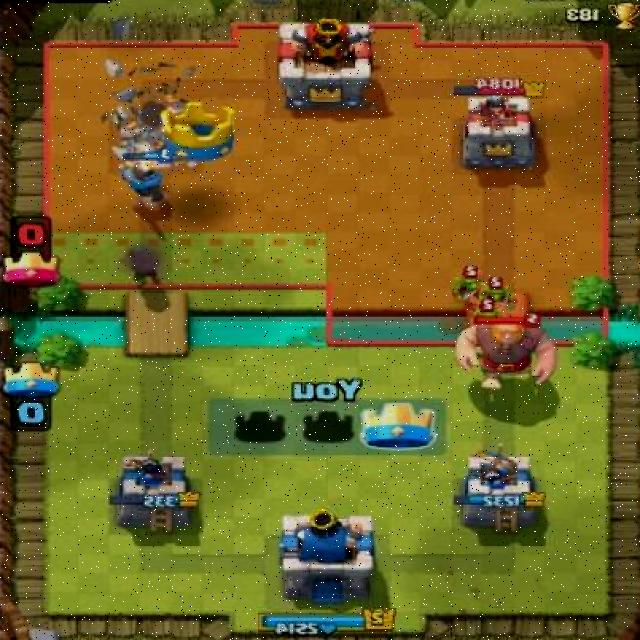Enemy-Giant: (454, 312, 559, 393)
Enemy-Goblin: (446, 265, 492, 308), (476, 274, 519, 317), (463, 301, 505, 344)
Player-Knight: (111, 143, 174, 212)
